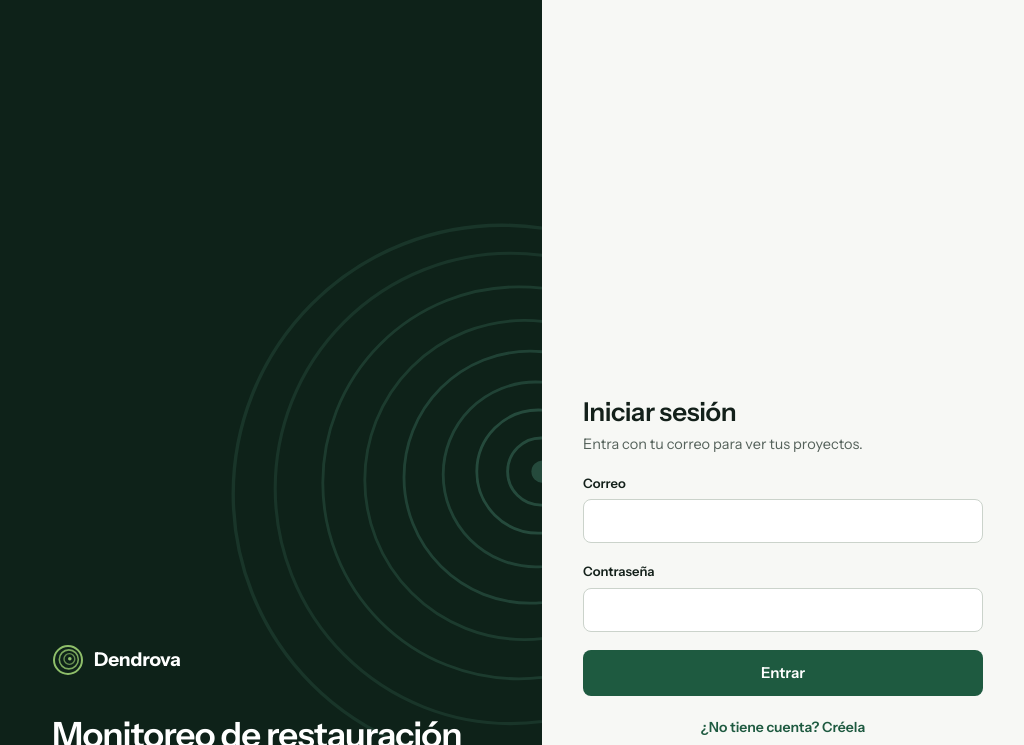
Test case: E1 en la interfaz › un error de credenciales se muestra al ingeniero
Type "ana@example.com" into the field labelled "Correo". click: point(783, 521)
box: [583,499,983,543]
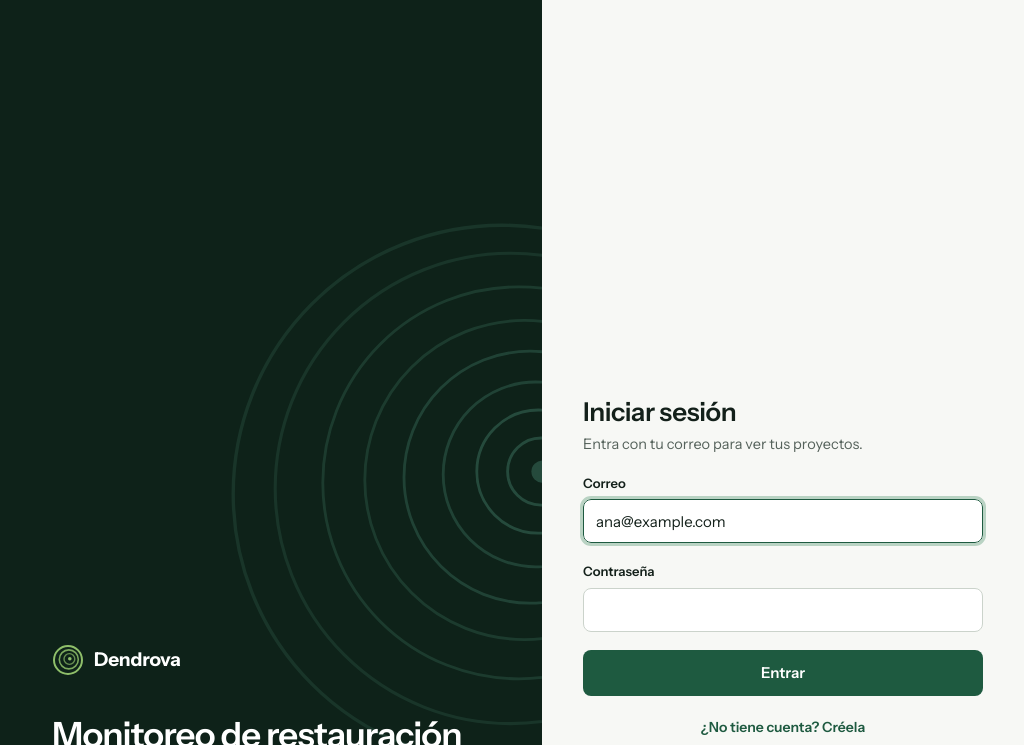
Type "malamala" into the password field labelled "Contraseña". click: point(783, 610)
box: [583,588,983,632]
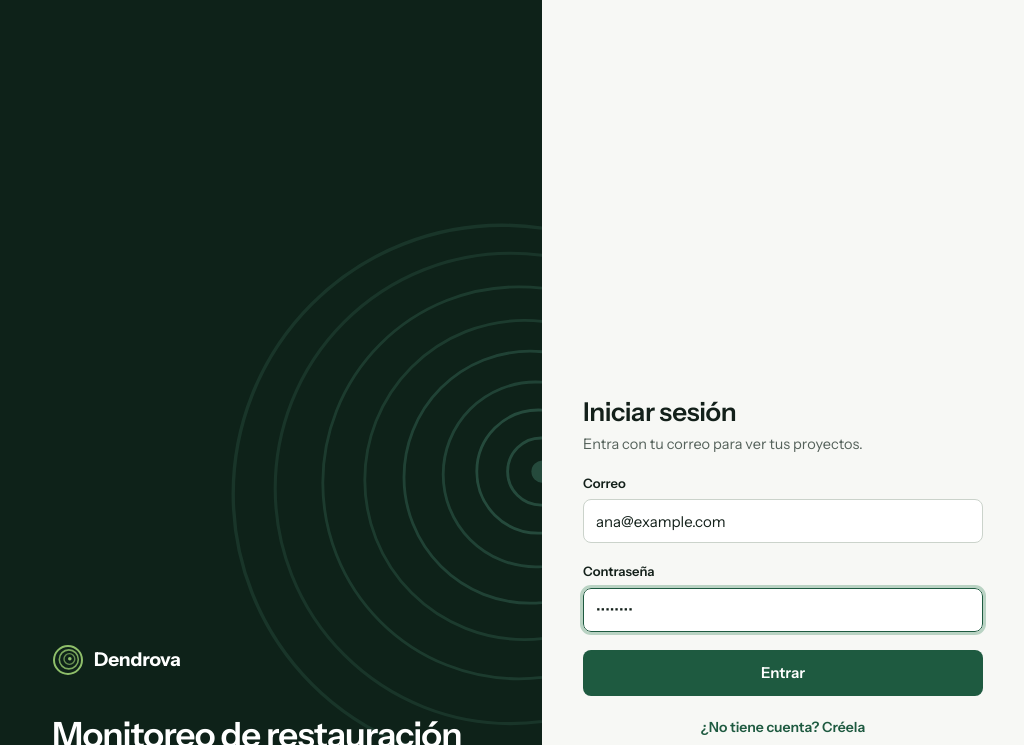
Click the button "Entrar". click: point(783, 672)
box: [583,650,983,696]
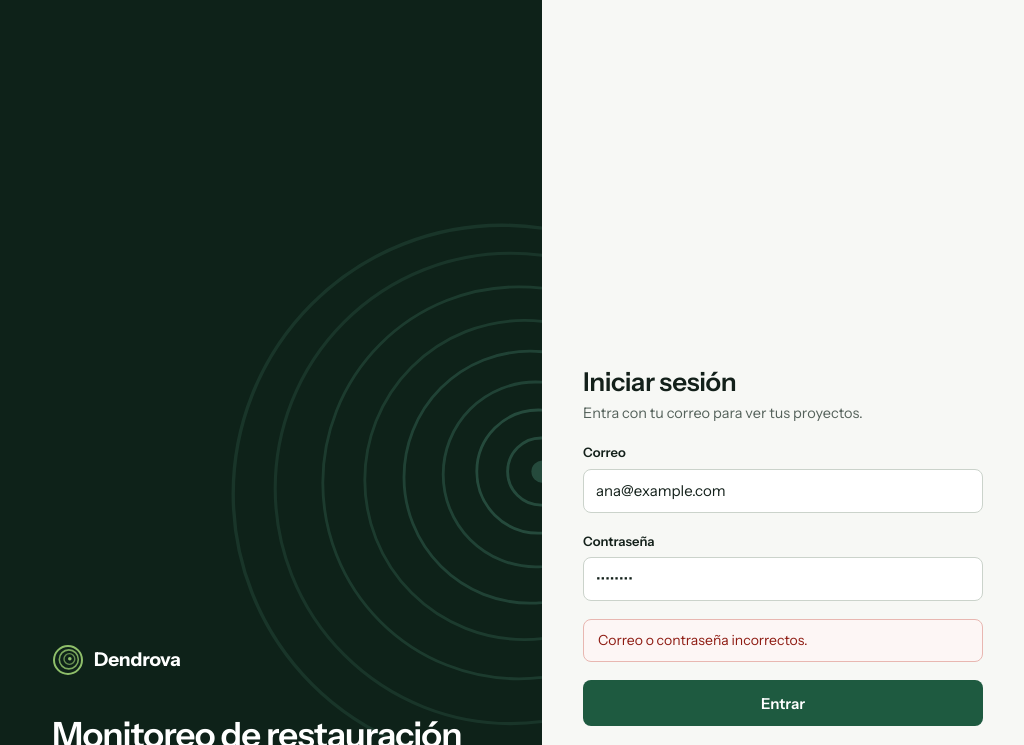
Expected: the message reads "Correo o contraseña incorrectos.", [598,631,808,649]
